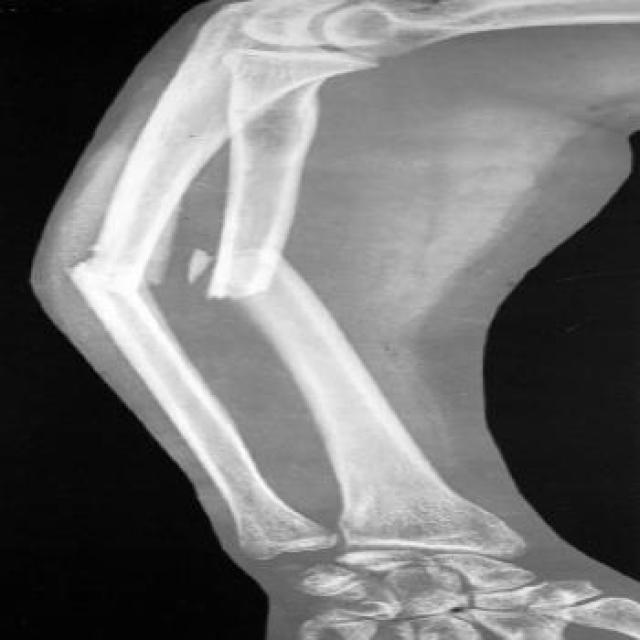fracture: (202, 235, 319, 310), (51, 244, 170, 288)
